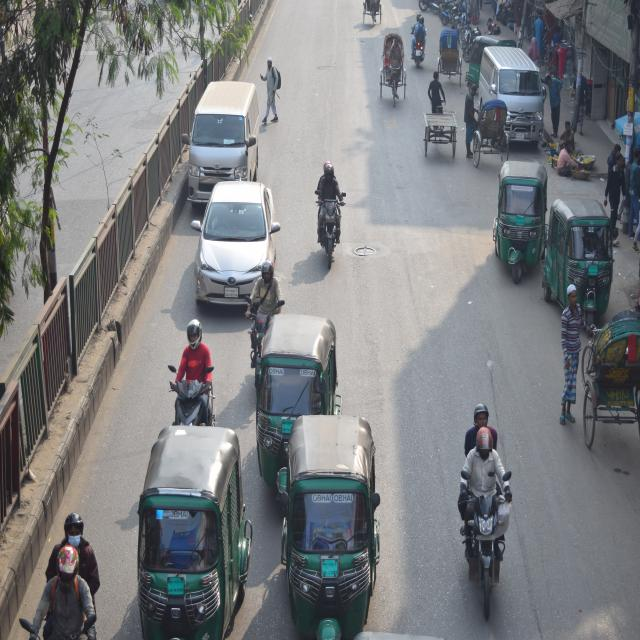car: (194, 168, 292, 314)
microbus: (188, 77, 264, 210), (475, 41, 548, 148)
motorbike: (448, 394, 537, 624), (38, 508, 99, 621), (173, 316, 213, 446), (316, 155, 350, 272), (247, 252, 280, 369), (411, 13, 434, 65)
